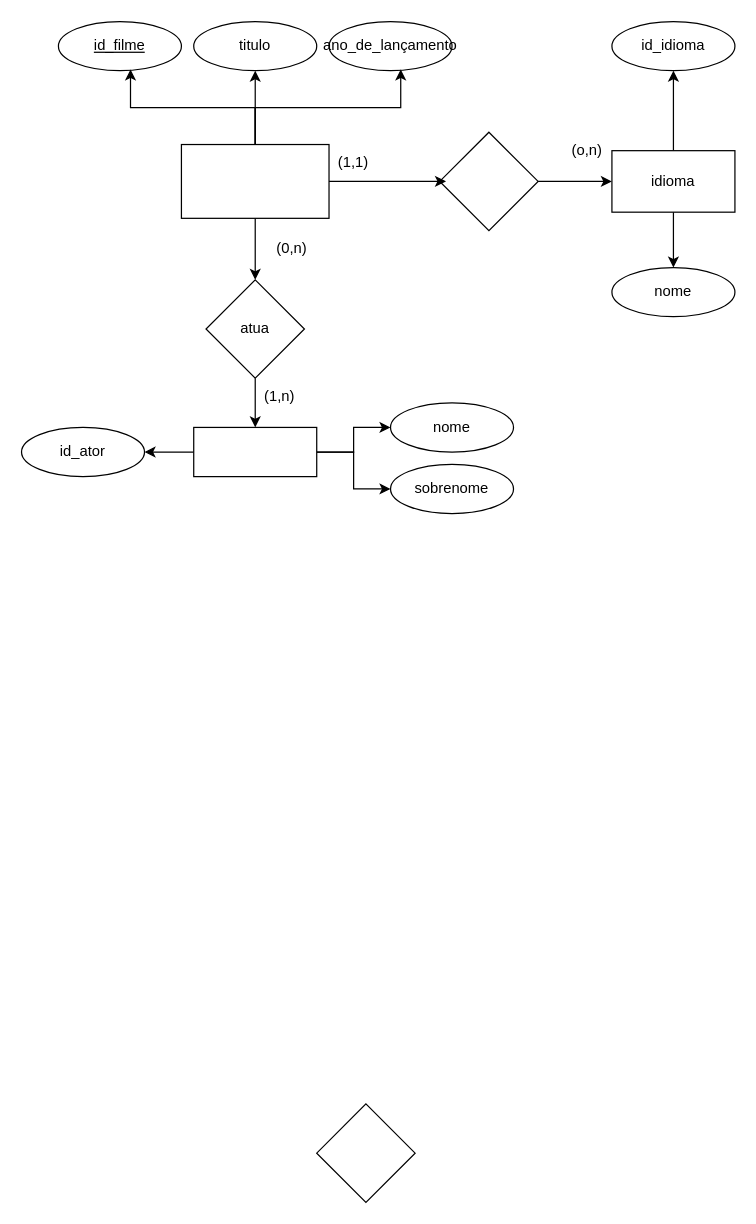
Image size: 756x1224. Some labels were removed from this diagram. Each missing label, with the centre of its shape:
Ator: (254,451)
Filme: (254,180)
RElacionamento com outra tabela: (365,1152)
tem: (488,181)
